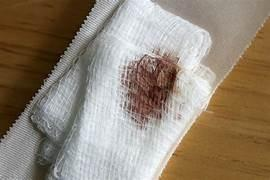cotton: (31, 0, 213, 178), (0, 0, 122, 178), (0, 0, 120, 179), (29, 0, 121, 163), (31, 58, 86, 163), (32, 61, 86, 141)
